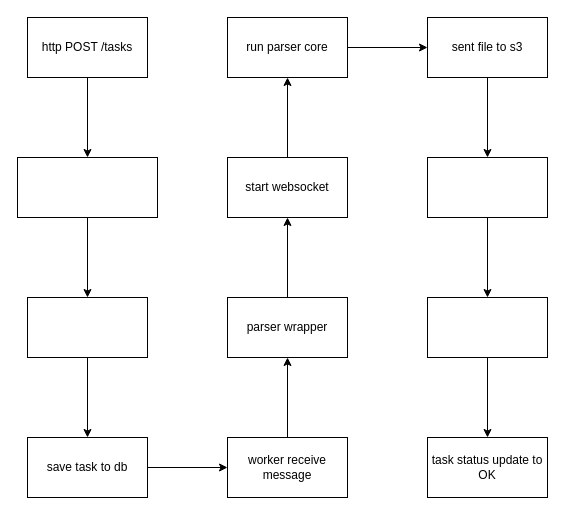
Some shapes in this 565 by 515 pixel diagram are drawn without their labels. Here are the shapes that lost their labels. From the top down, the box of each, then its label:
(16, 156, 158, 218): taskManager.StartTask
(426, 156, 548, 218): sent result MQ message with OK
(26, 296, 148, 358): MQ send message
(426, 296, 548, 358): server save metainfo to database
